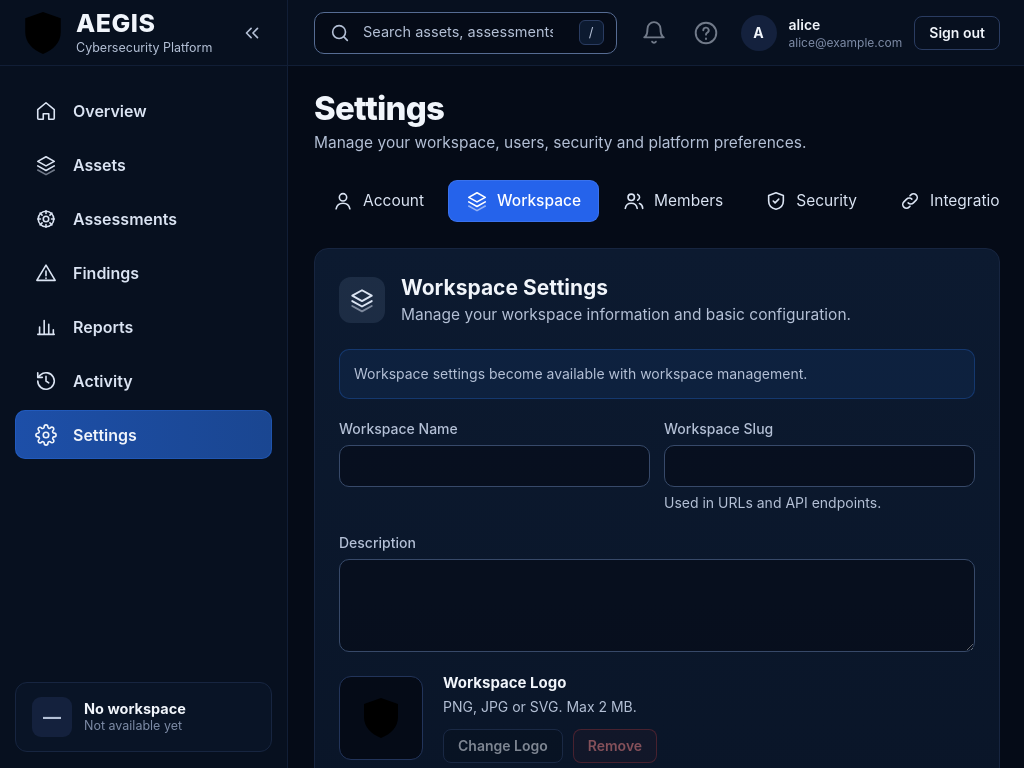
Test: profile › reports a taken username without naming anyone
Click the tab "Account": (378, 201) [314, 180, 442, 222]
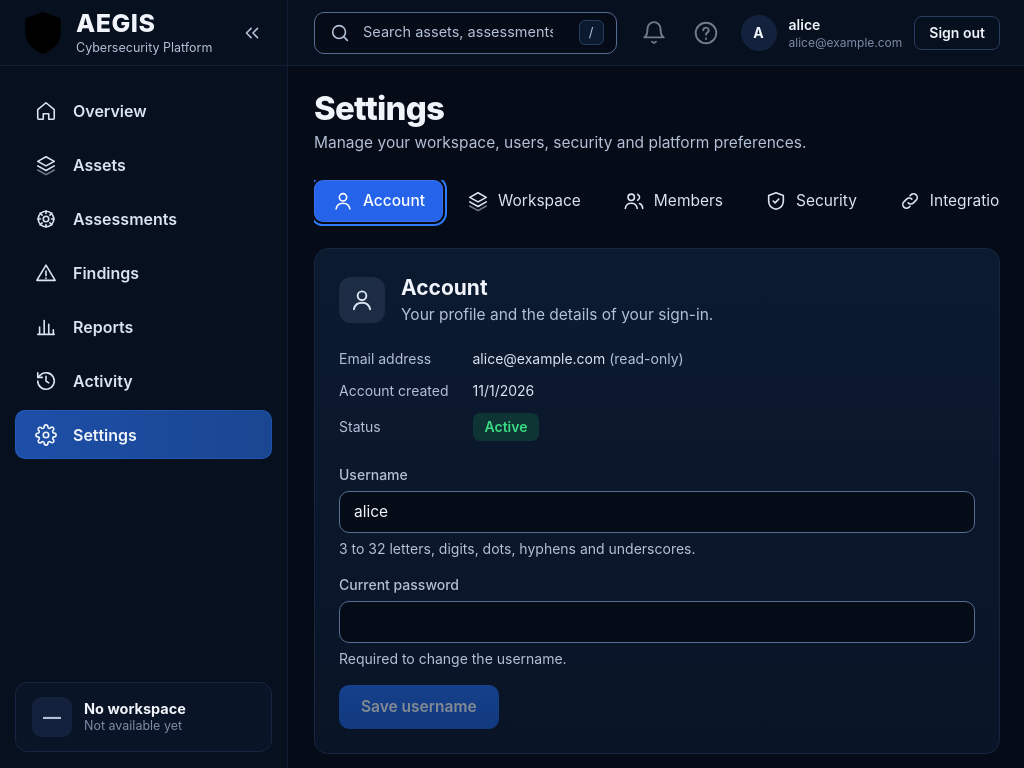
Replace the text in the field labelled "Username" with "bob": (657, 512) [339, 491, 975, 533]
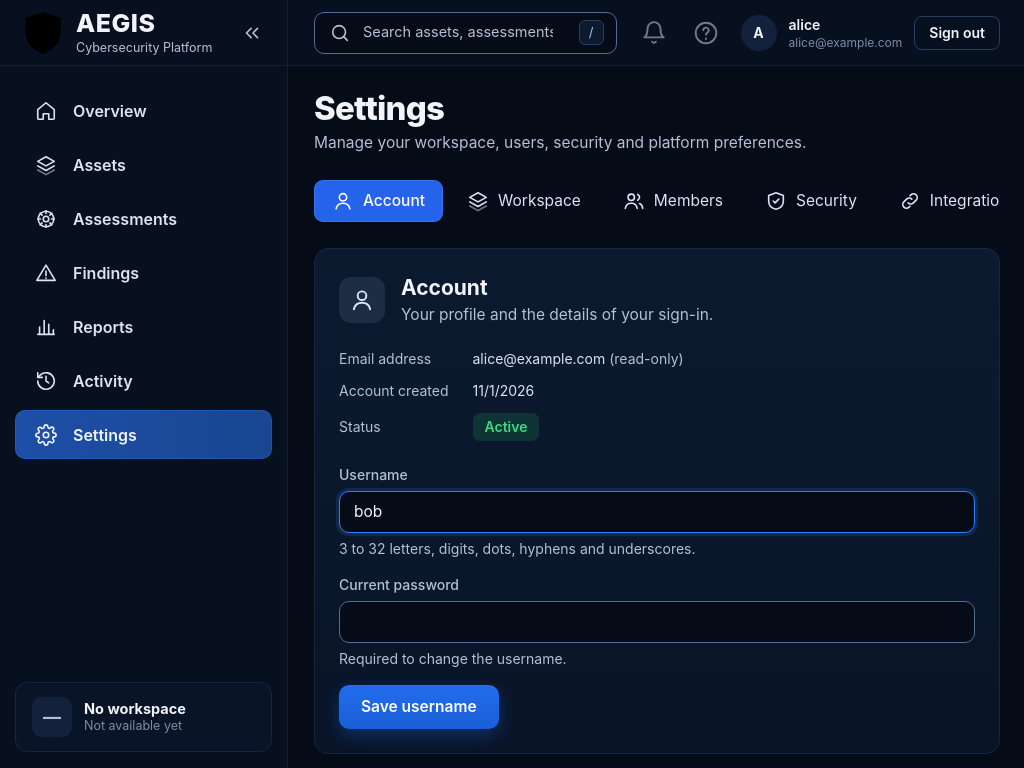
In the password field labelled "Current password": (657, 622) [339, 601, 975, 643], type "correct horse battery staple"
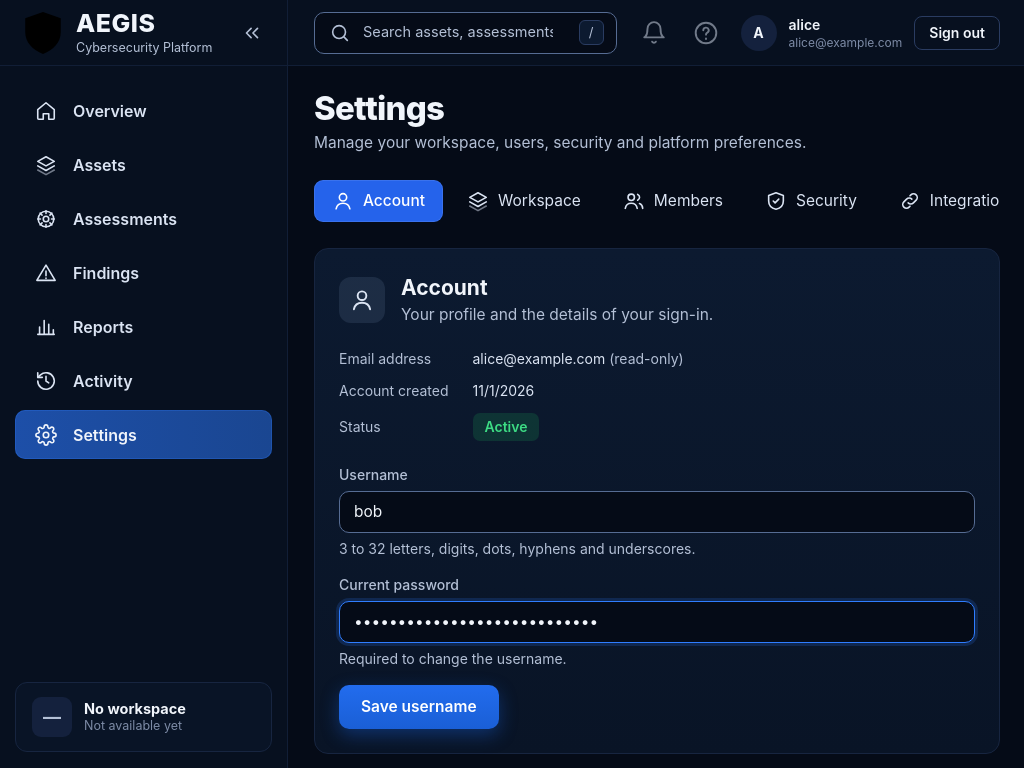
Click the button "Save username": (419, 707) [339, 685, 499, 729]
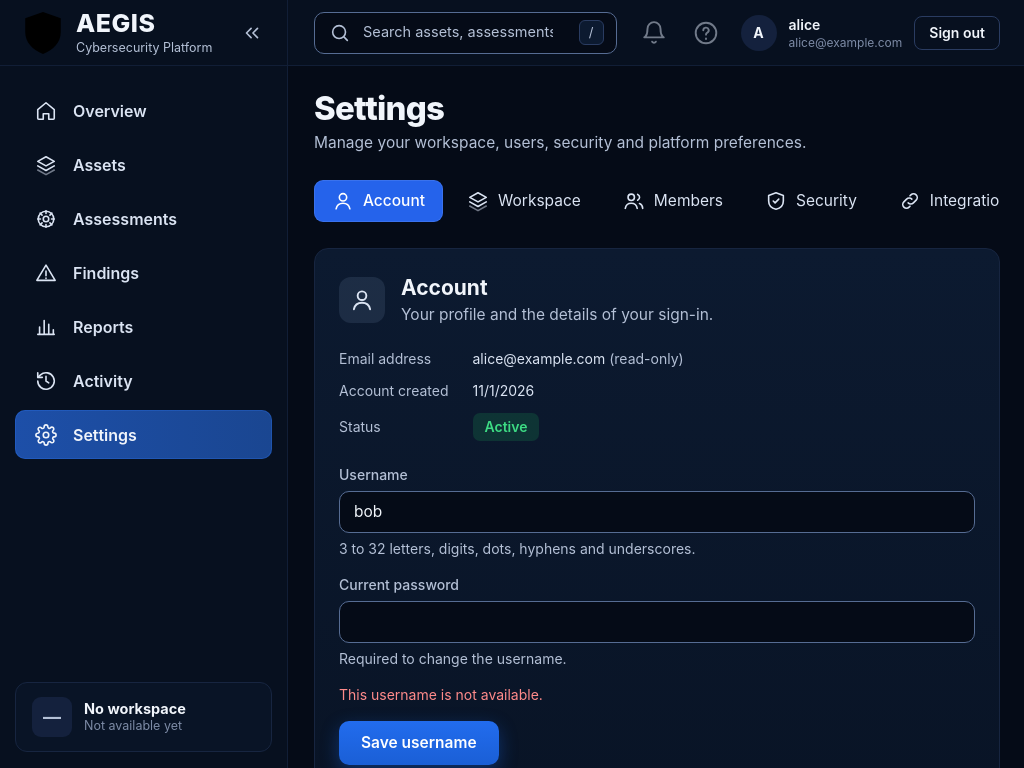
expect the text "This username is not available." is shown: met, box [339, 686, 543, 703]
